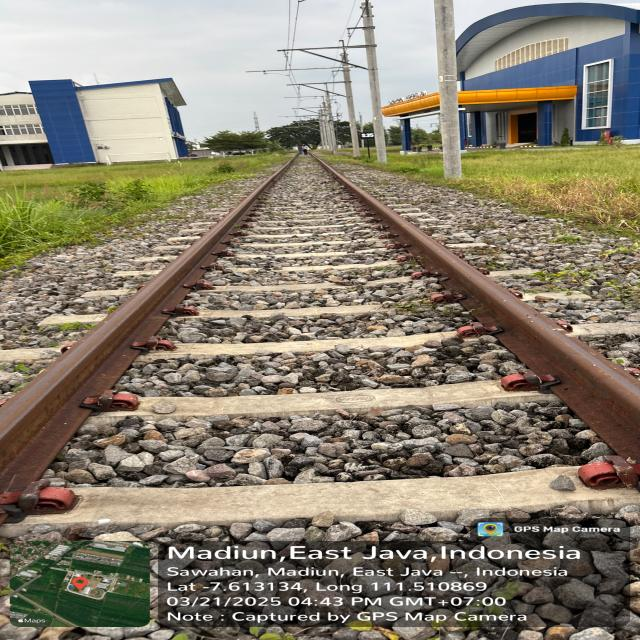rail-detection: (319, 161, 640, 460), (0, 162, 292, 490)
